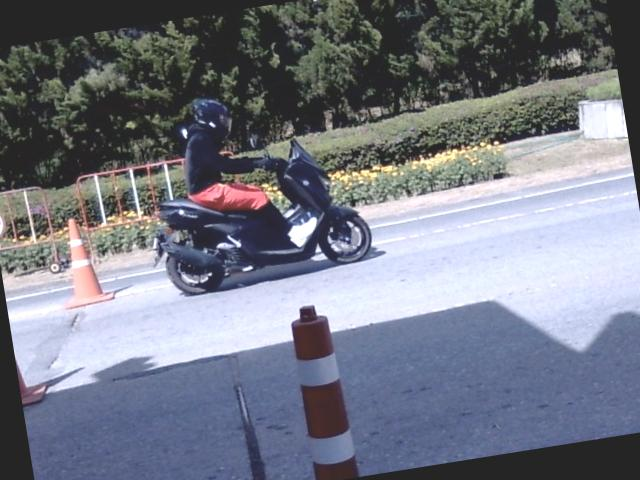helmet: (189, 96, 231, 137)
motor: (152, 139, 370, 294)
person: (181, 99, 315, 242)
